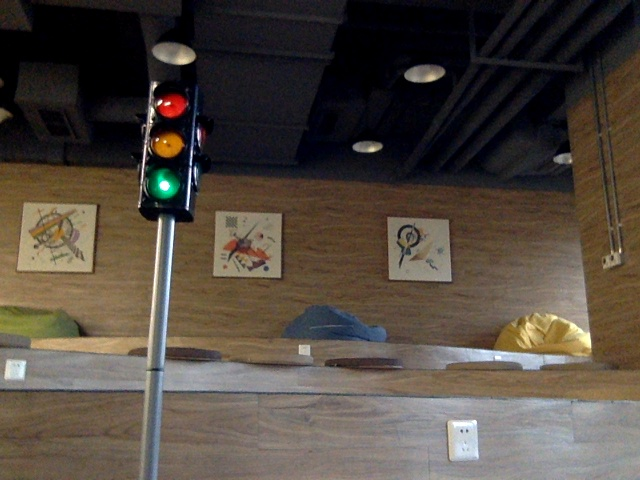green: (147, 85, 187, 201)
